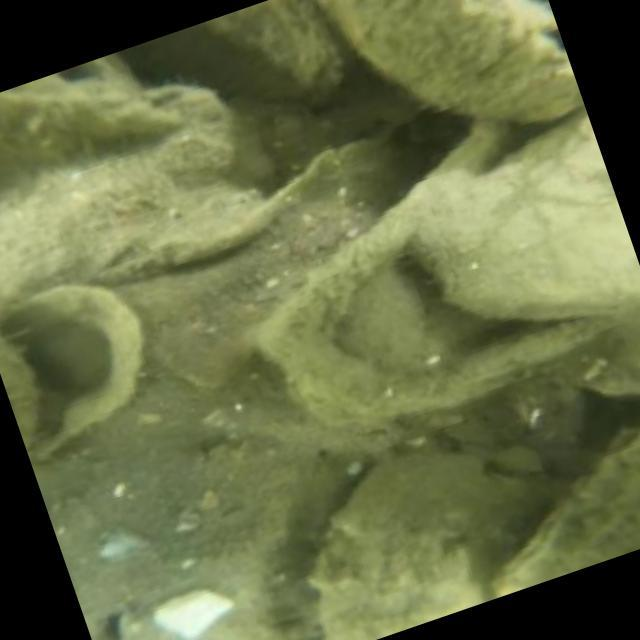Oyster- Indeterminate: (275, 415, 573, 640), (0, 65, 266, 313), (326, 0, 581, 121), (525, 321, 640, 399)
Oyster-Closed: (0, 45, 183, 153)
